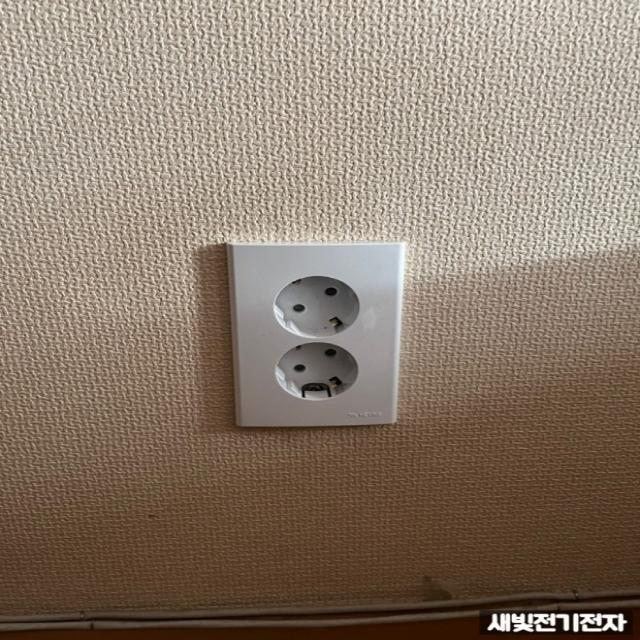typeb: (223, 216, 481, 447)
